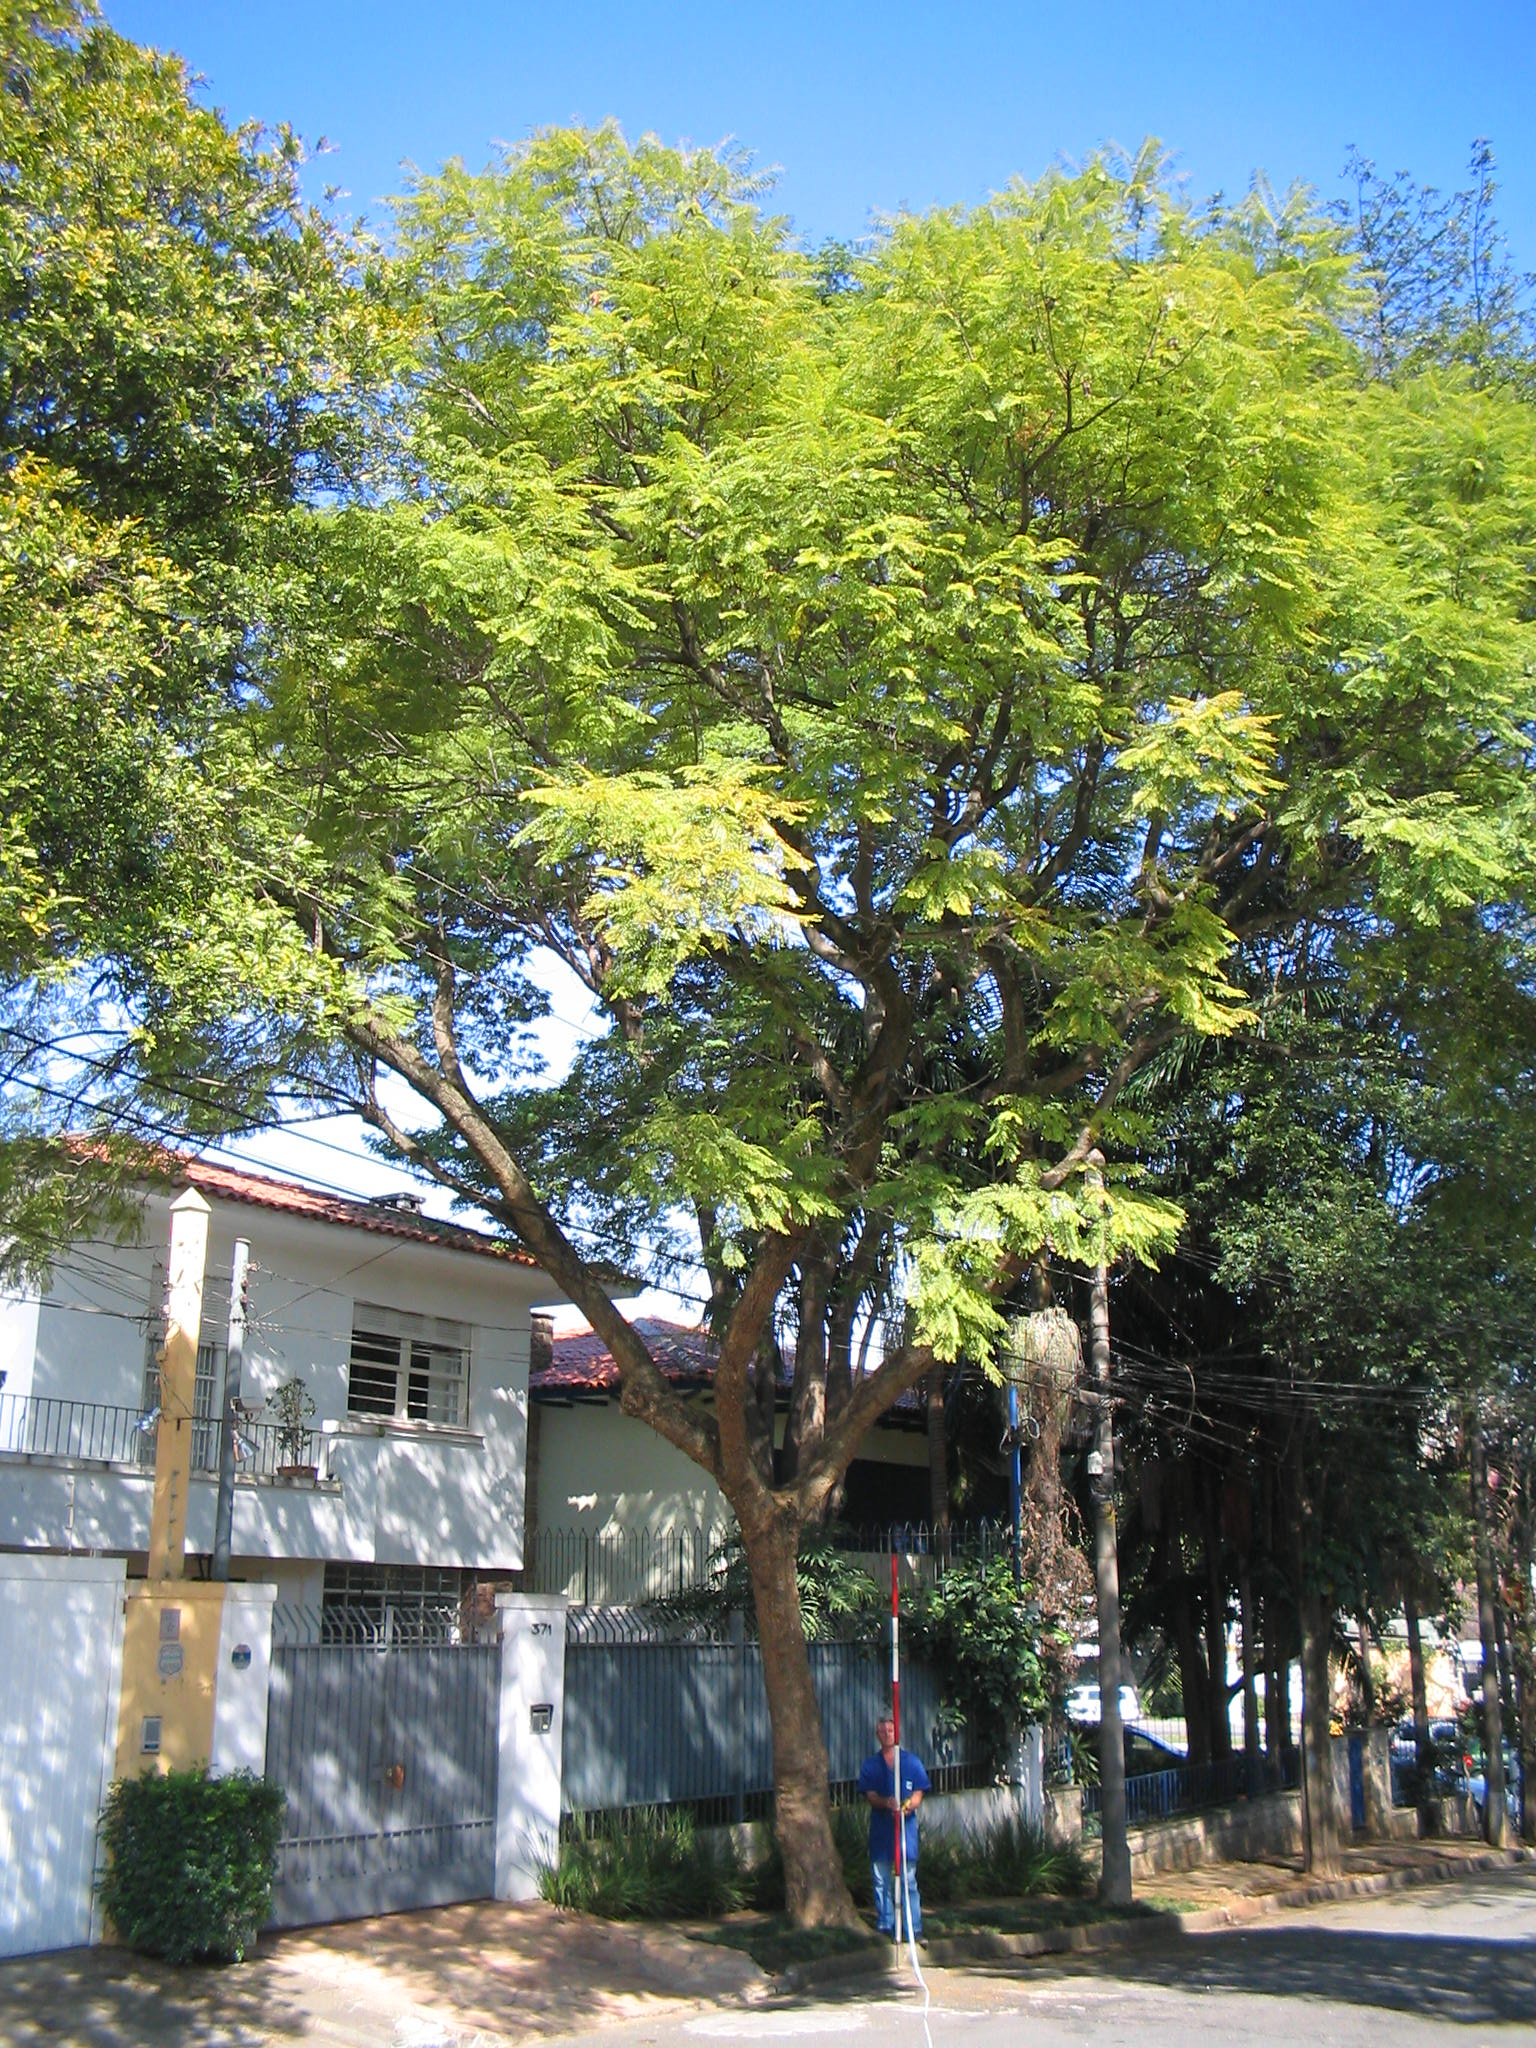crown: (227, 129, 1528, 1416)
stem: (712, 1526, 886, 1929)
stick: (858, 1529, 920, 1945)
tree: (219, 121, 1533, 1932)
